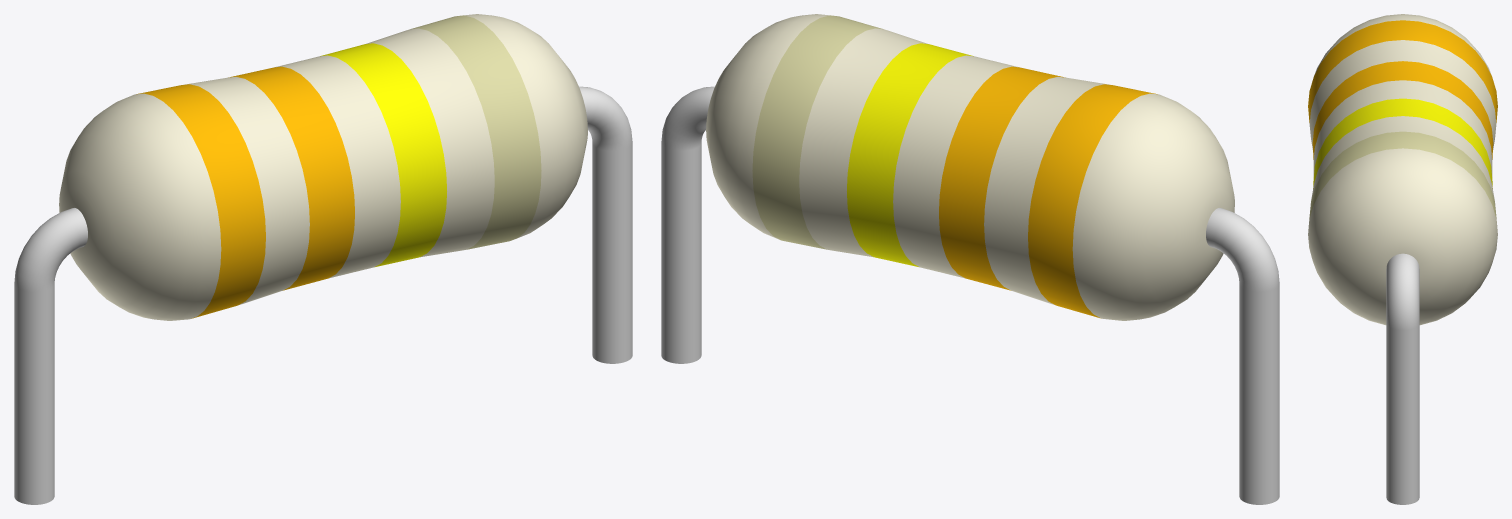
Rendered from Axial0_4_330K.fbx.
3 renders of one model, left to right at view 1: azimuth 30°, elevation 25°; view 2: azimuth 150°, elevation 25°; view 3: azimuth 270°, elevation 25°, orthographic. The views are drawn at different scales.
Parts seen in each view (by area): view 1: Axial0_4_100K; view 2: Axial0_4_100K; view 3: Axial0_4_100K.
Boxes of the visible parts, left/top/right/bottom form: Axial0_4_100K: left=14, top=14, right=632, bottom=504; Axial0_4_100K: left=661, top=14, right=1279, bottom=504; Axial0_4_100K: left=1308, top=14, right=1497, bottom=504.
Size of the model in its own units: 1.07 by 0.6072 by 0.3507.
